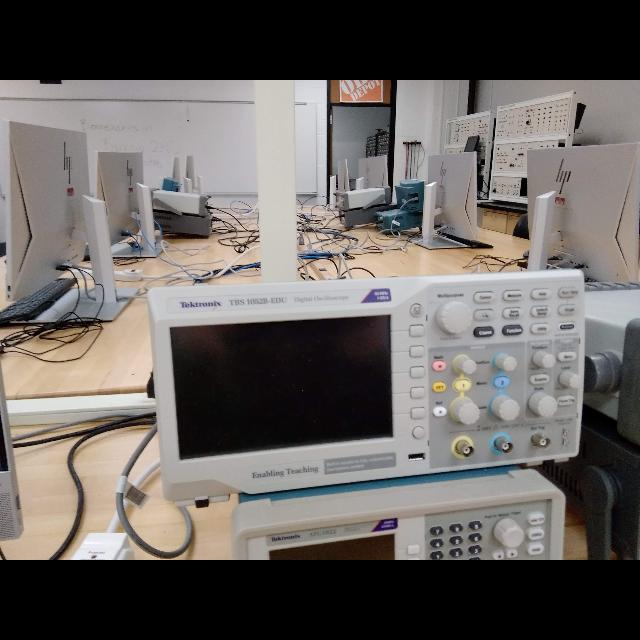Digital-Oscilloscope: (148, 274, 586, 497)
